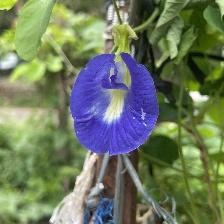shankupushpam: (69, 51, 163, 158)
